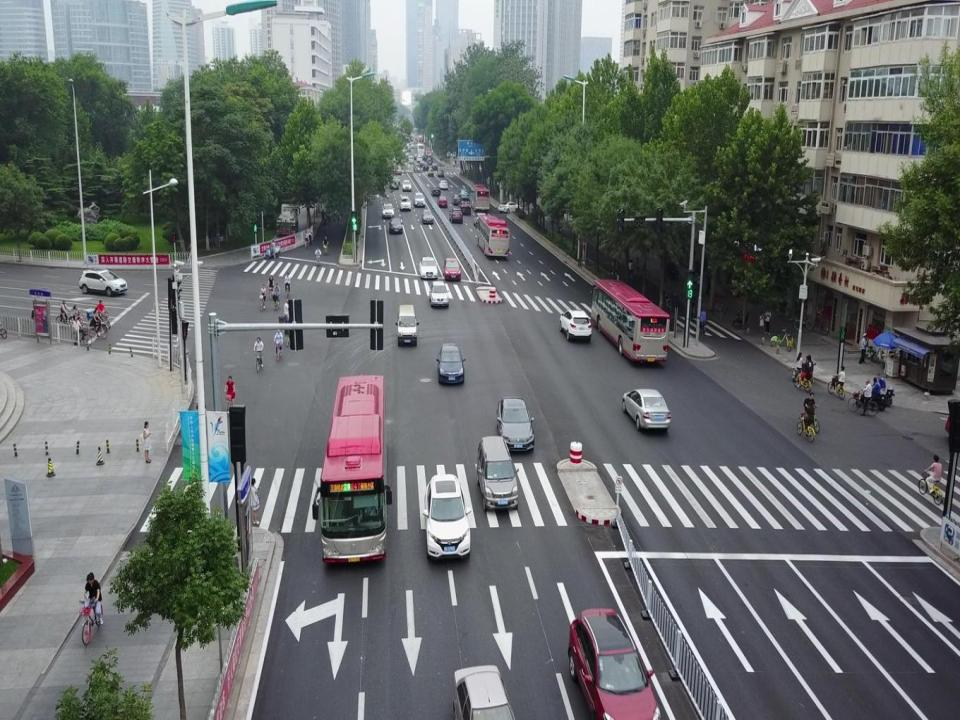bus: (312, 374, 394, 568), (590, 279, 670, 364), (475, 214, 510, 260), (469, 184, 490, 212), (414, 137, 424, 150), (416, 143, 425, 157)
car: (568, 609, 662, 720), (424, 473, 474, 562), (449, 664, 517, 720), (496, 395, 535, 454), (622, 388, 671, 431), (78, 268, 128, 296), (436, 343, 467, 384), (558, 308, 592, 342), (428, 280, 450, 308), (442, 257, 462, 281), (419, 256, 439, 279), (497, 200, 522, 214), (388, 216, 403, 234), (449, 207, 463, 223), (458, 200, 471, 216), (382, 202, 394, 219), (413, 192, 426, 206), (421, 210, 434, 223), (400, 196, 412, 210), (451, 194, 462, 205), (431, 184, 441, 196), (402, 180, 412, 192), (459, 189, 469, 200), (437, 196, 447, 207), (389, 179, 399, 190), (390, 174, 400, 185), (438, 180, 448, 189), (412, 163, 421, 172), (437, 168, 445, 177), (426, 156, 434, 165), (428, 168, 435, 177), (416, 155, 423, 163), (423, 163, 429, 172), (432, 163, 438, 170), (419, 161, 426, 167)
truck: (276, 203, 300, 237)
van: (476, 435, 520, 511), (396, 303, 419, 347), (408, 154, 414, 165)
